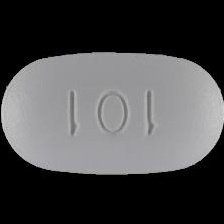53808-0754: (0, 0, 224, 224)
